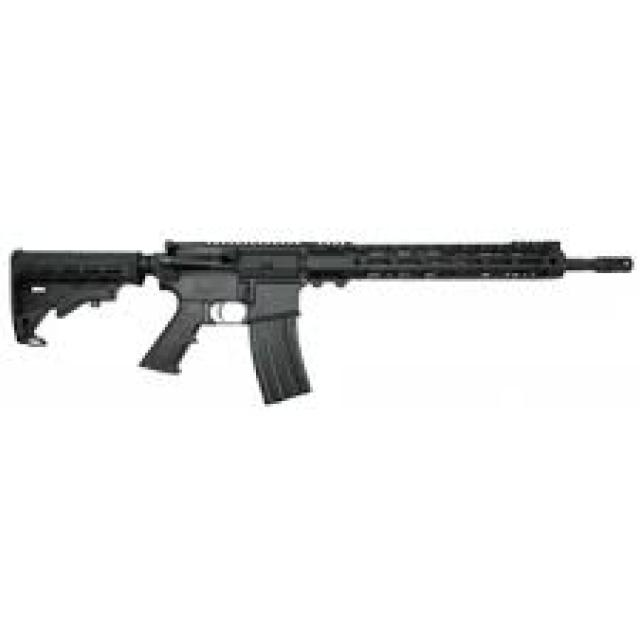rifle: (1, 215, 640, 414)
